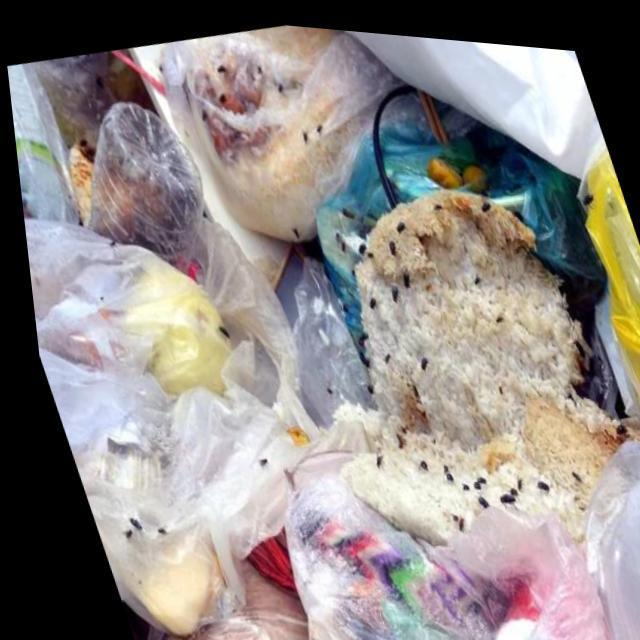Garbage: (6, 20, 640, 640)
Plastic_Bag: (19, 221, 285, 633), (147, 449, 494, 640), (582, 135, 640, 403)
Plastic_bottle: (84, 100, 198, 259)
contaminated_waste: (19, 217, 307, 633), (161, 20, 398, 238), (379, 87, 599, 297), (273, 471, 480, 640), (312, 127, 386, 342), (581, 135, 640, 404), (575, 432, 640, 633), (6, 64, 73, 221)
